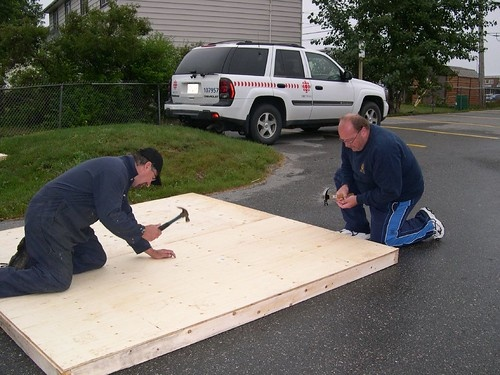hammer: (161, 205, 191, 229), (322, 187, 341, 205)
